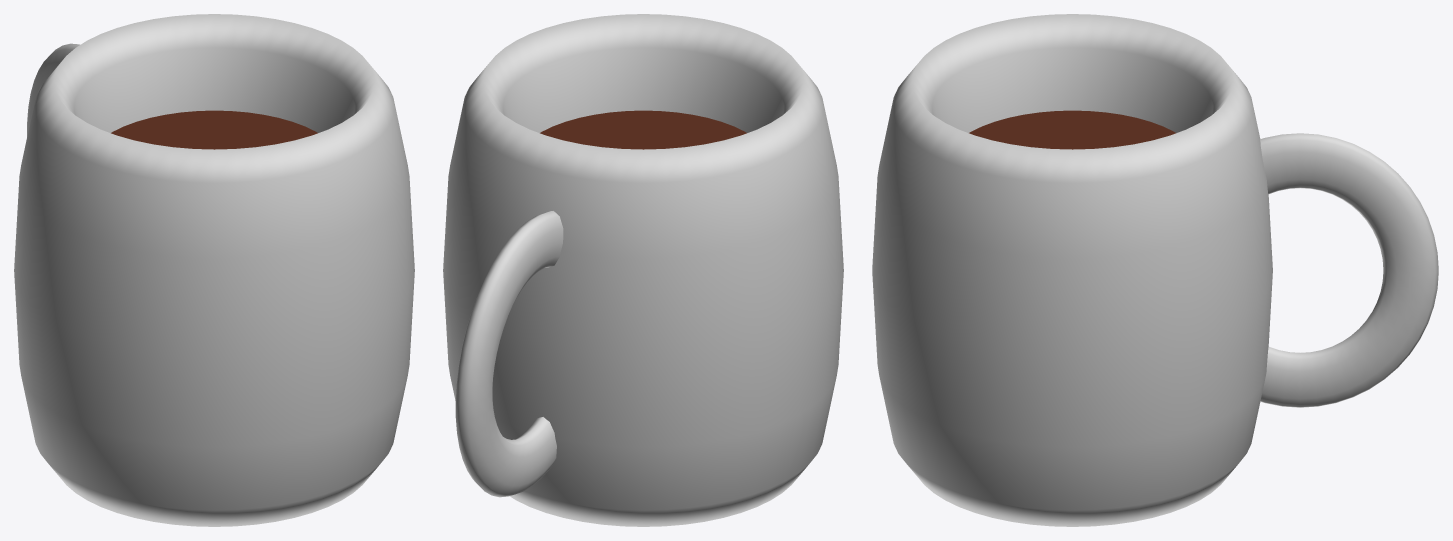
The model's file is coffee.fbx.
3 views of the same model, side by side, from view 1: azimuth 30°, elevation 25°; view 2: azimuth 150°, elevation 25°; view 3: azimuth 270°, elevation 25° (orthographic).
Parts seen in each view (by area): view 1: Torus, Cylinder.001; view 2: Torus, Cylinder.001; view 3: Torus, Cylinder.001.
Boxes of the visible parts, x1,y1,x2,y2 form: Torus: (14,14,414,526); Cylinder.001: (111,110,317,149); Torus: (443,14,843,526); Cylinder.001: (540,110,746,149); Torus: (872,14,1438,526); Cylinder.001: (969,110,1175,149).
Bounding box in the file's own units: 250 × 260 × 353.
